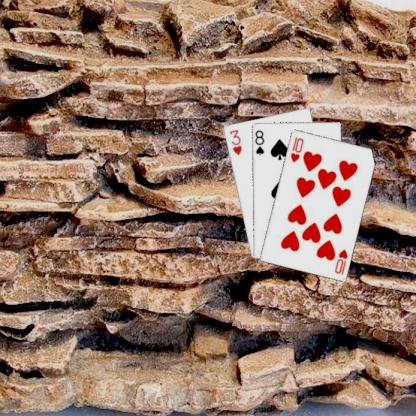10H: (332, 246, 349, 276), (288, 134, 304, 164)
3H: (227, 127, 243, 156)
8S: (253, 128, 265, 156)
